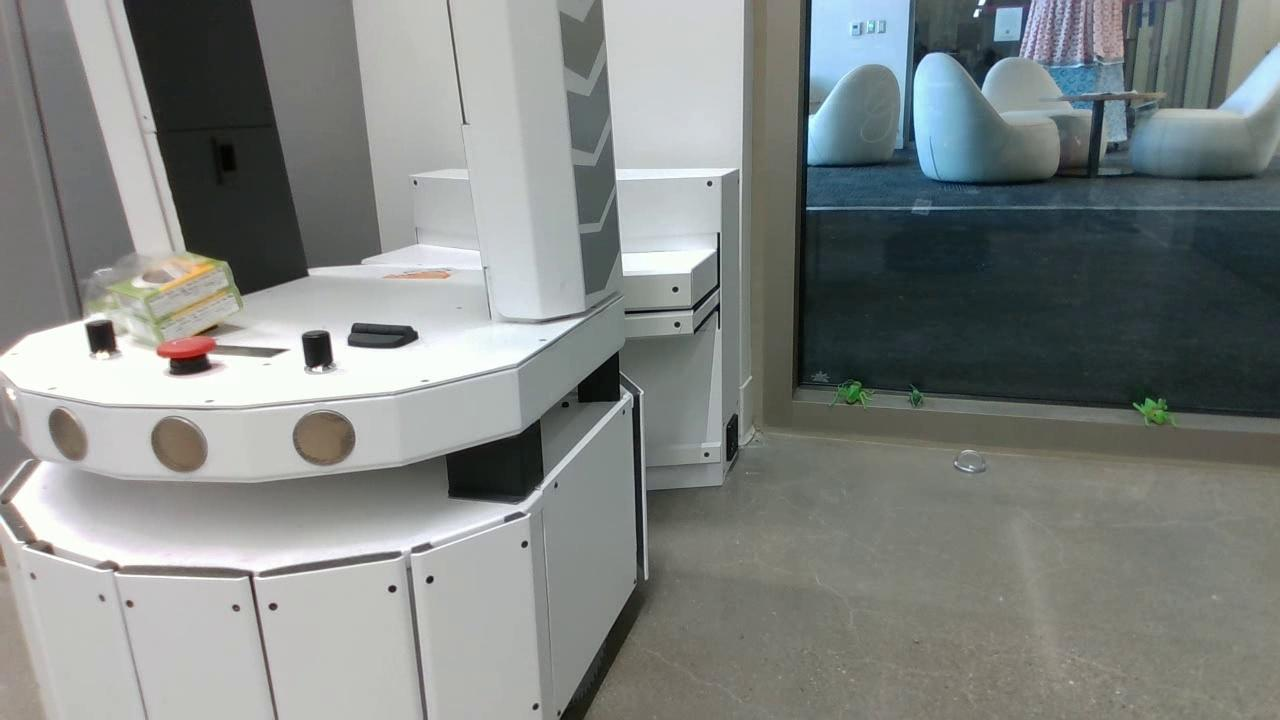grasshopper: (1132, 398, 1177, 430), (829, 380, 873, 408)
